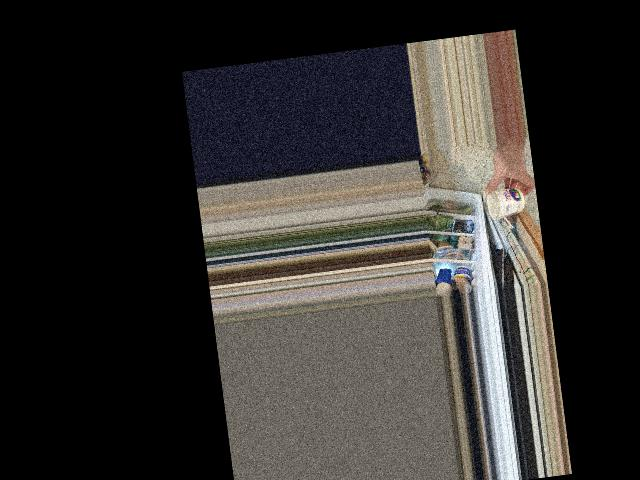cotage: (481, 177, 530, 222)
